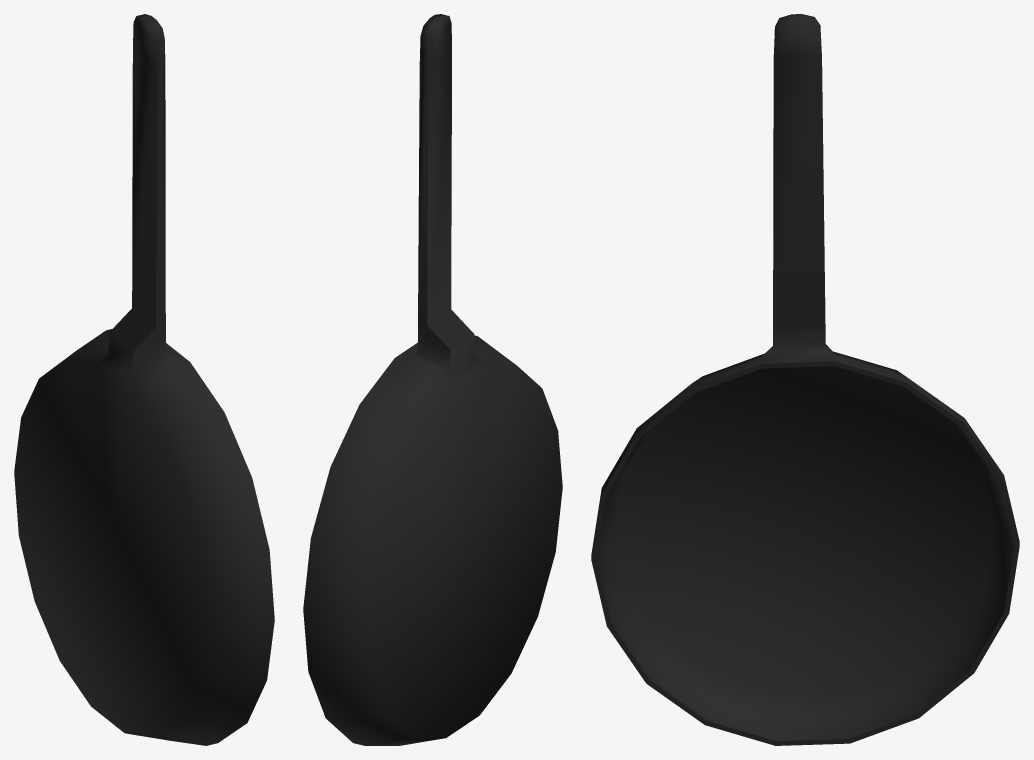
Rendered from KitchenSmallPan.fbx.
3 views of the same model, side by side, from view 1: azimuth 30°, elevation 25°; view 2: azimuth 150°, elevation 25°; view 3: azimuth 270°, elevation 25° (orthographic).
Visible parts, largest first — view 1: pan1; view 2: pan1; view 3: pan1.
Part boxes in pixels (x1=…): pan1: x1=14, y1=14, x2=274, y2=745; pan1: x1=303, y1=14, x2=562, y2=745; pan1: x1=591, y1=14, x2=1019, y2=745.
Size of the model in its own units: 4.9 by 59.08 by 31.9.
